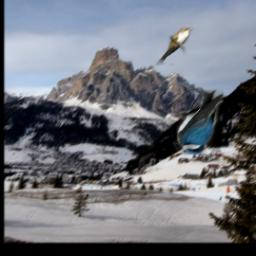Cuckoo: (155, 27, 193, 65)
Swallow: (177, 90, 223, 155)
